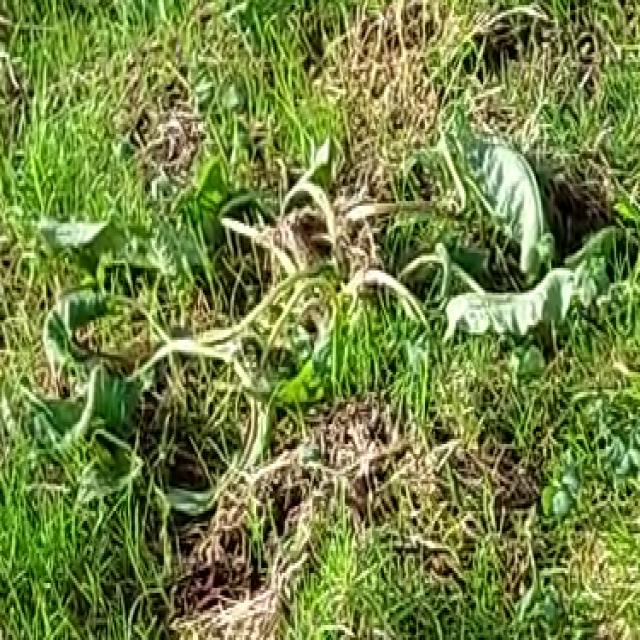organic waste: (34, 139, 621, 531)
